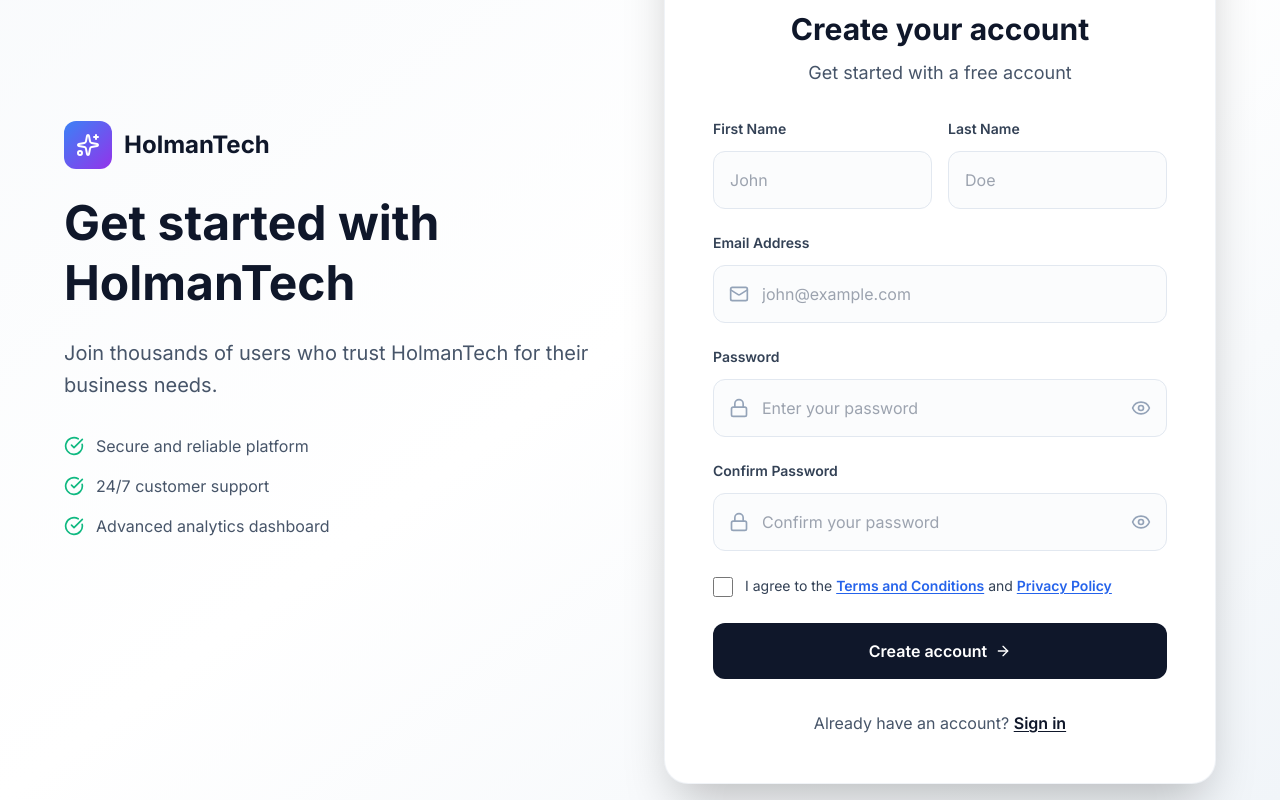
Test: Form Integration Tests › Login Form Integration › should handle login validation errors
(page scrolled)
Click the button with test id "toggle-mode" at (1040, 723), box left=1014, top=711, right=1066, bottom=735
(page scrolled)
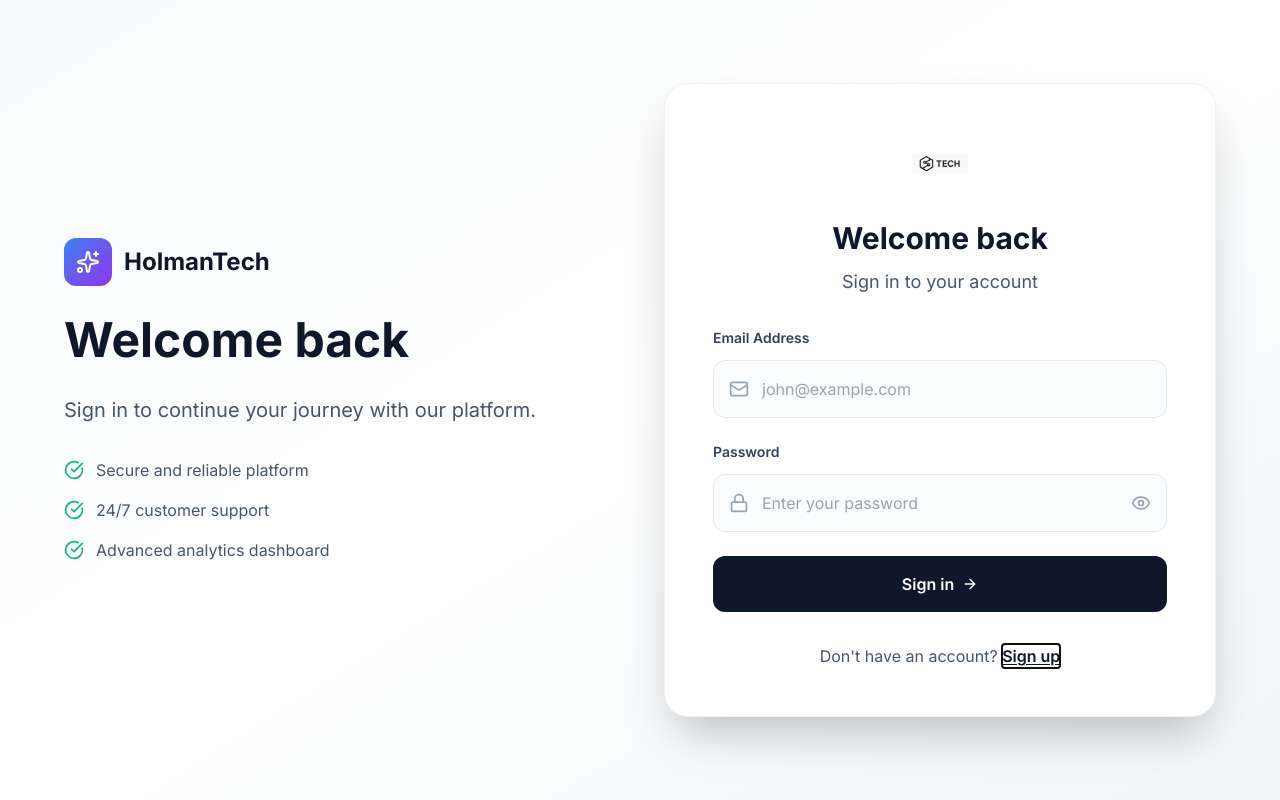
Click the button with test id "submit-button" at (940, 584), box left=713, top=556, right=1167, bottom=612
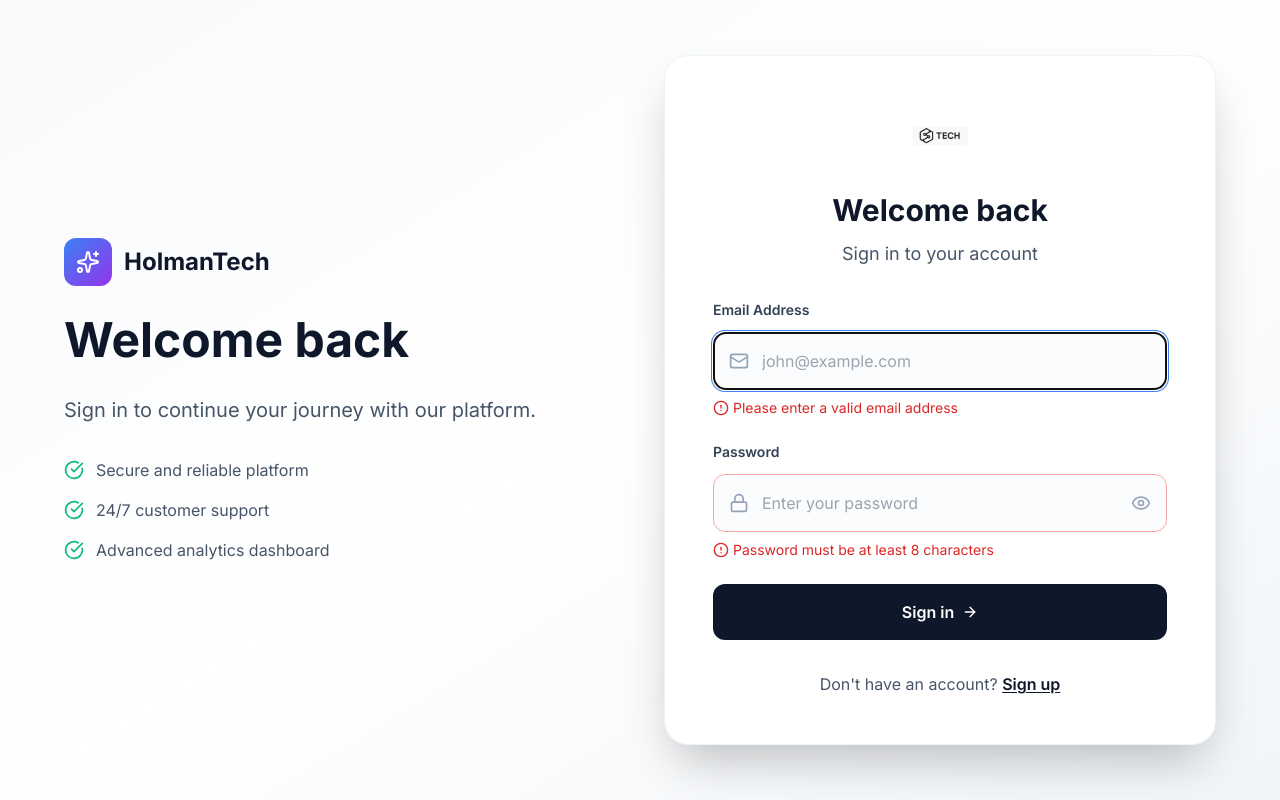
Now the element with test id "email-error" is shown, box left=713, top=399, right=958, bottom=416
Now the element with test id "password-error" is shown, box left=713, top=541, right=994, bottom=558
